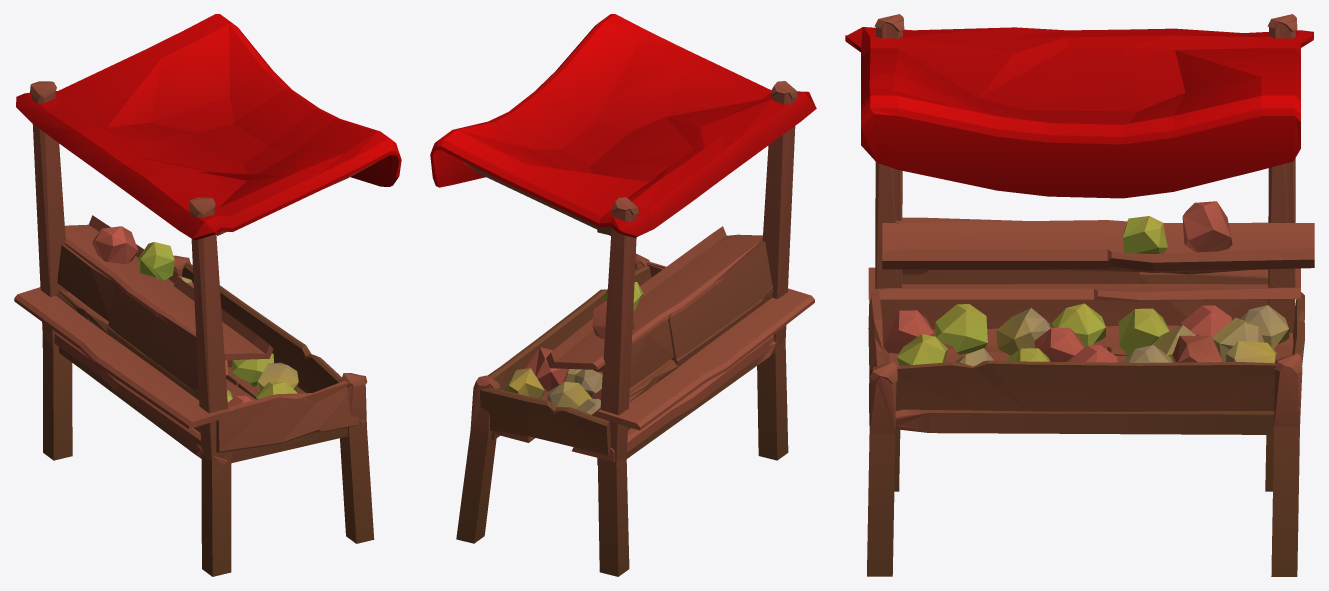
Rendered from marketstand_red.glb.
3 views of the same model, side by side, from view 1: azimuth 30°, elevation 25°; view 2: azimuth 150°, elevation 25°; view 3: azimuth 270°, elevation 25° (orthographic). The views are drawn at different scales.
Visible parts, largest first — view 1: MarketStand_Red_mesh1; view 2: MarketStand_Red_mesh1; view 3: MarketStand_Red_mesh1.
Part boxes in pixels (<box>): MarketStand_Red_mesh1: <box>14,14,401,576</box>; MarketStand_Red_mesh1: <box>430,14,816,576</box>; MarketStand_Red_mesh1: <box>845,14,1314,576</box>.
Size of the model in its own units: 1.89 by 3.35 by 2.91.
1 material, 1 textured.
